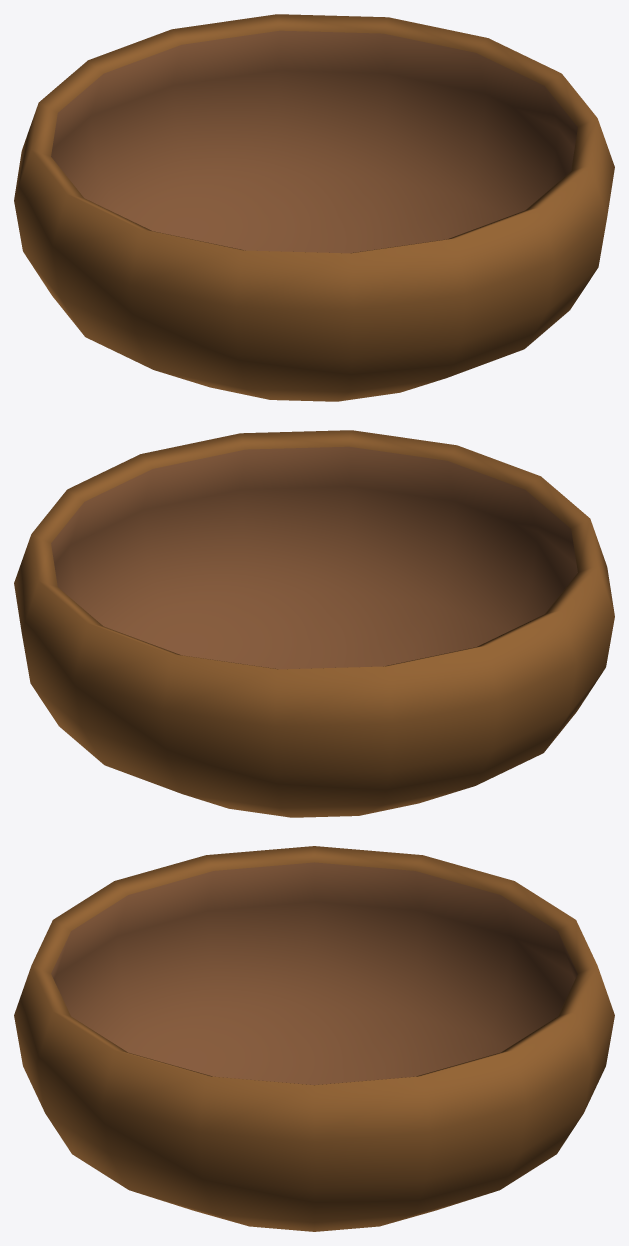
File: NestCheckpoint.fbx
3 renders of one model, top to bottom at view 1: azimuth 30°, elevation 25°; view 2: azimuth 150°, elevation 25°; view 3: azimuth 270°, elevation 25°, orthographic.
Parts seen in each view (by area): view 1: Torus.001; view 2: Torus.001; view 3: Torus.001.
Boxes of the visible parts, x1,y1,x2,y2 form: Torus.001: [14, 14, 614, 401]; Torus.001: [14, 430, 614, 817]; Torus.001: [14, 846, 614, 1231].
Size of the model in its own units: 56.48 by 21.41 by 56.48.
